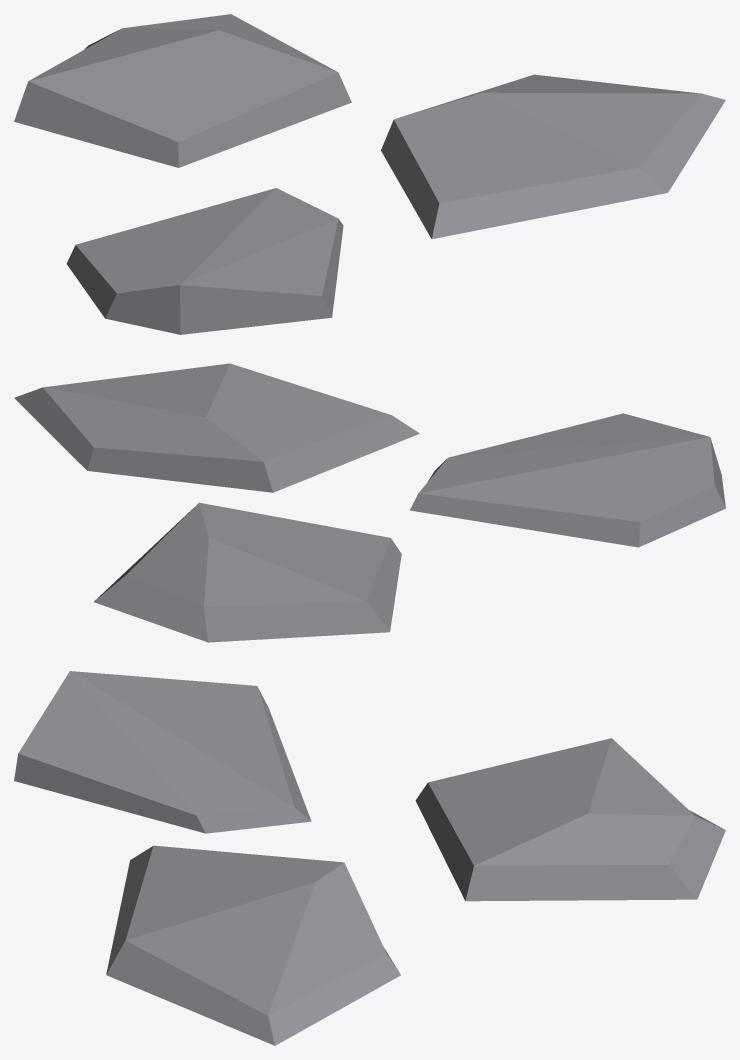
File: stone_4.obj
3 views of the same model, one above another, from view 1: azimuth 30°, elevation 25°; view 2: azimuth 150°, elevation 25°; view 3: azimuth 270°, elevation 25° (orthographic). The views are drawn at different scales.
Visible parts, largest first — view 1: stone_4_Cube.010; view 2: stone_4_Cube.010; view 3: stone_4_Cube.010.
Part boxes in pixels (box(x1,y1,x2,y2)): stone_4_Cube.010: box(14, 14, 725, 334); stone_4_Cube.010: box(14, 363, 725, 642); stone_4_Cube.010: box(14, 671, 725, 1045).
Size of the model in its own units: 1.81 by 0.1194 by 1.55.
